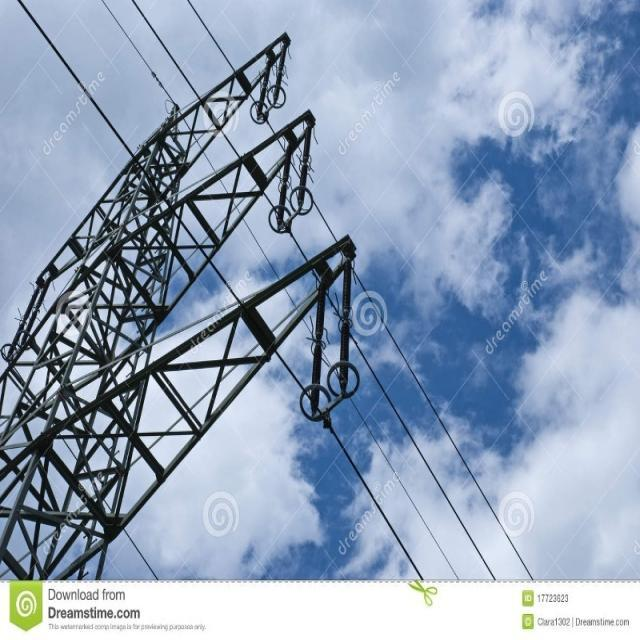non-critical vegetation: (2, 24, 358, 574)
